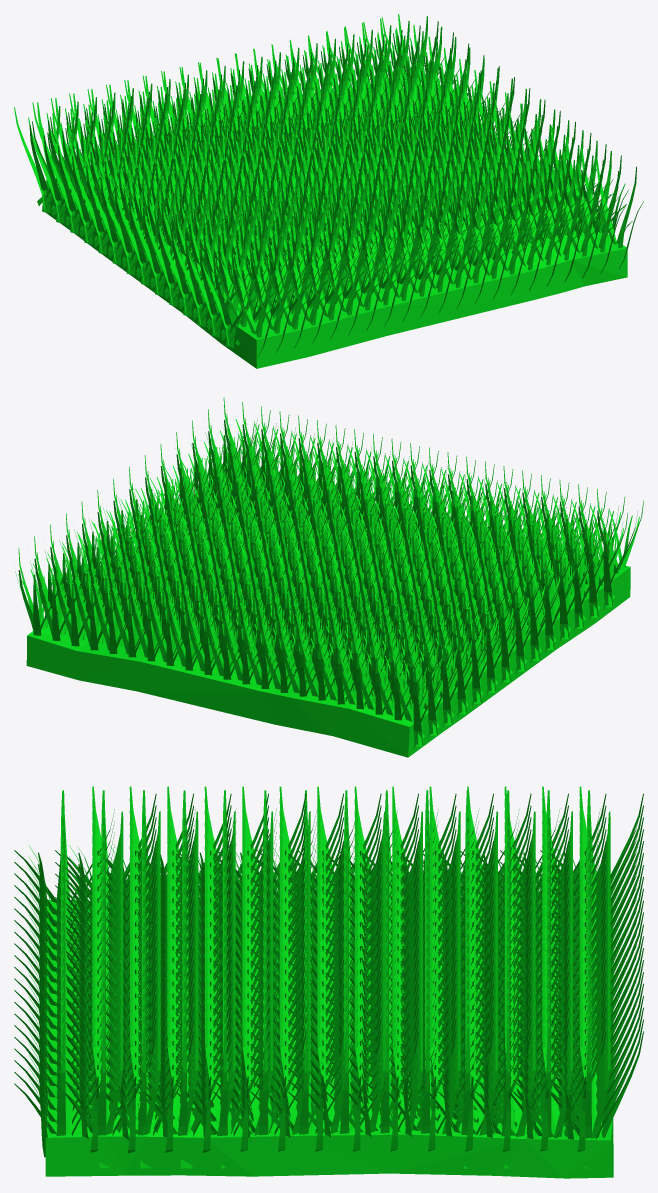
The model's file is grass1.glb.
3 views of the same model, one above another, from view 1: azimuth 30°, elevation 25°; view 2: azimuth 150°, elevation 25°; view 3: azimuth 270°, elevation 25° (orthographic). The views are drawn at different scales.
Parts seen in each view (by area): view 1: 平面.007, 平面.006, 立方体; view 2: 平面.007, 平面.006, 立方体; view 3: 平面.007, 平面.006, 立方体.
Boxes of the visible parts, left/top/right/bottom form: 平面.007: left=14, top=16, right=626, bottom=347; 平面.006: left=32, top=14, right=643, bottom=357; 立方体: left=45, top=144, right=627, bottom=368; 平面.007: left=15, top=418, right=637, bottom=749; 平面.006: left=18, top=397, right=643, bottom=721; 立方体: left=26, top=493, right=630, bottom=757; 平面.007: left=65, top=786, right=643, bottom=1167; 平面.006: left=14, top=790, right=640, bottom=1168; 立方体: left=45, top=898, right=613, bottom=1178.
Size of the model in its own units: 1.12 by 0.2885 by 1.11.
